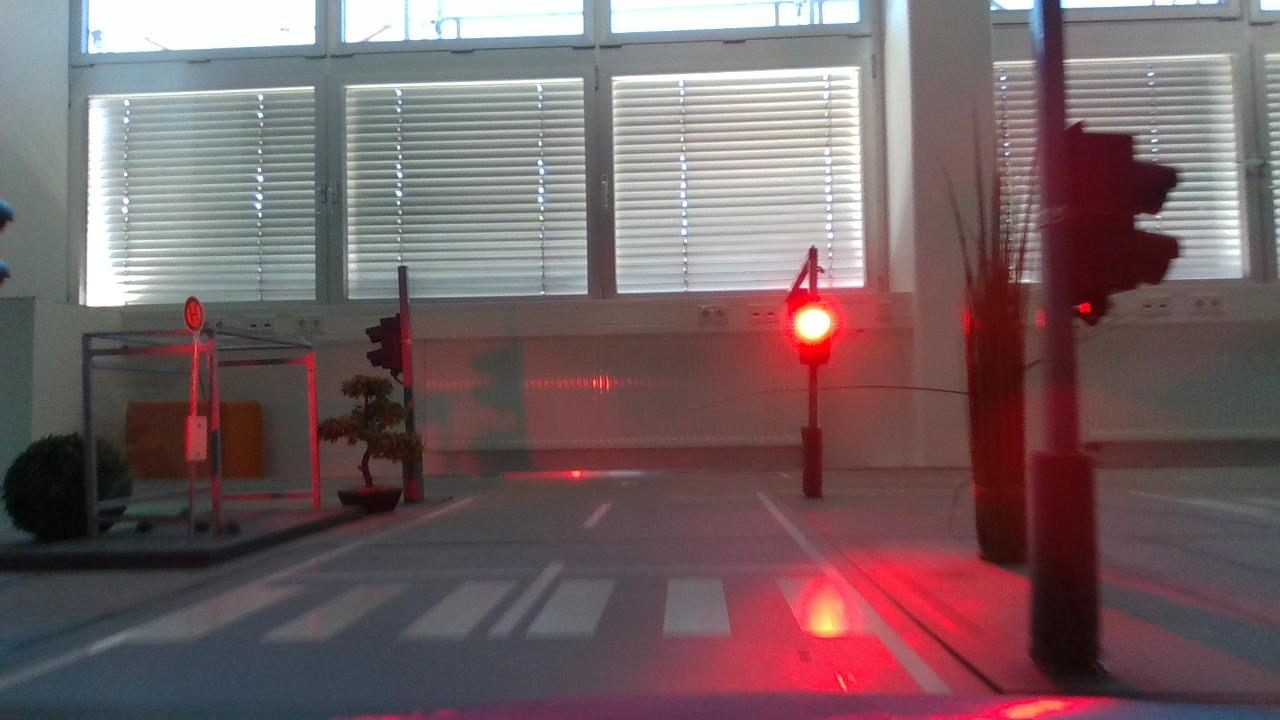traffic_light_red: (790, 292, 846, 376)
